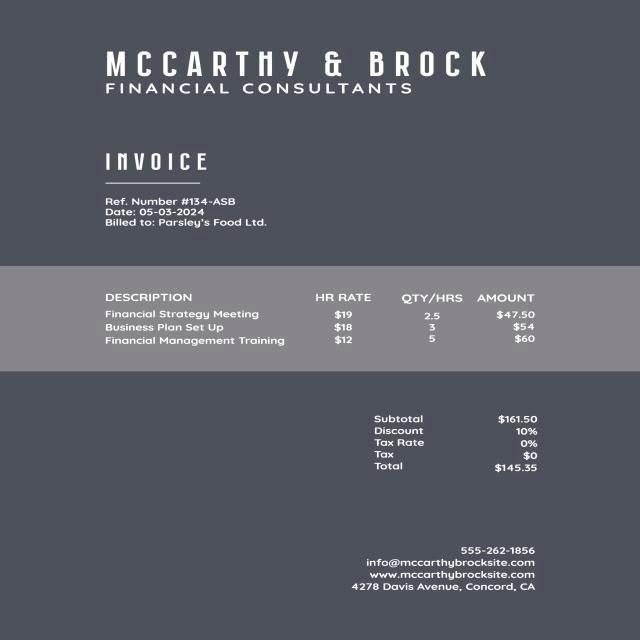paragraph: (101, 35, 506, 102), (360, 411, 555, 484), (350, 537, 556, 602), (97, 189, 279, 235), (94, 144, 220, 178)
table: (89, 285, 566, 363)
